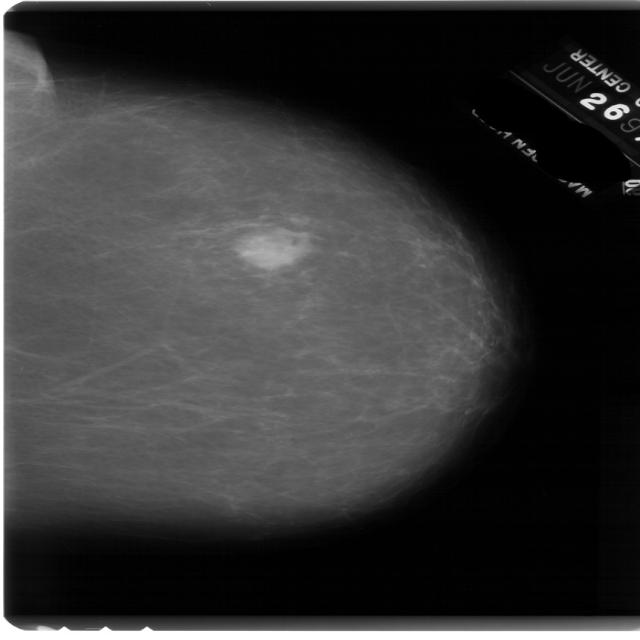tumour: (231, 226, 315, 270)
